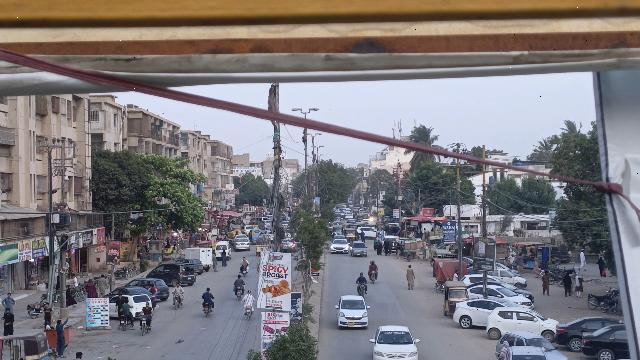Bike: (119, 311, 135, 332), (139, 313, 152, 336), (355, 282, 370, 297), (366, 269, 380, 285), (172, 292, 183, 312), (233, 286, 245, 302), (244, 305, 255, 321), (203, 302, 212, 318)
Car: (485, 306, 558, 340), (555, 317, 617, 352), (370, 323, 422, 360), (452, 299, 516, 328), (582, 318, 624, 360), (333, 293, 372, 329), (145, 261, 197, 286), (492, 330, 553, 349), (507, 345, 549, 360)
Person: (54, 316, 71, 355), (1, 306, 16, 335), (560, 271, 573, 298), (404, 263, 416, 291), (540, 269, 552, 297), (39, 301, 54, 323), (83, 278, 98, 298), (96, 274, 109, 297), (574, 270, 584, 298), (0, 292, 17, 308), (138, 301, 155, 316), (201, 284, 214, 302), (241, 289, 255, 305), (114, 293, 125, 313), (120, 299, 134, 314), (354, 271, 369, 284), (233, 273, 246, 287), (172, 281, 184, 295), (368, 260, 378, 271)
Rickshaw: (440, 281, 468, 316)
Truck: (177, 245, 213, 270)
